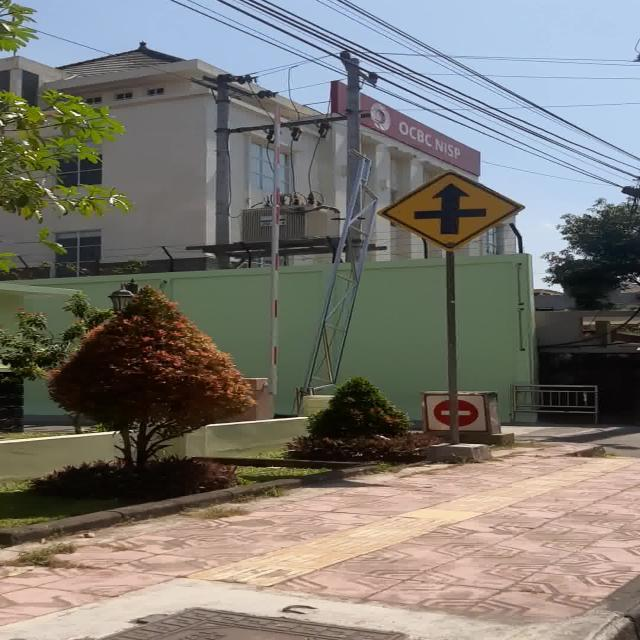Persimpangan 3 Prioritas: (376, 170, 526, 252)
